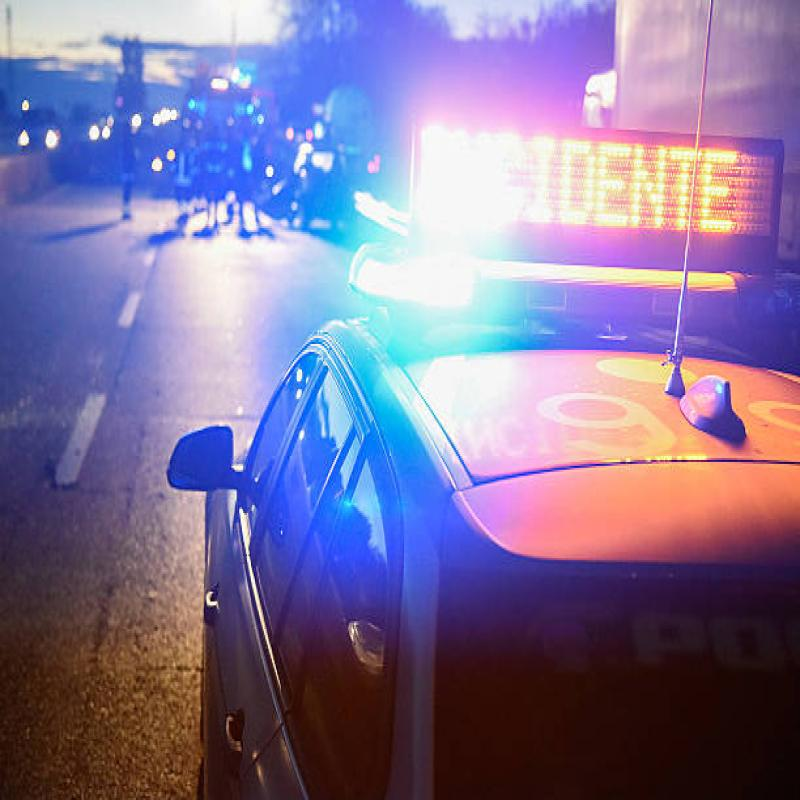AmbulanceSiren: (339, 227, 740, 368)
